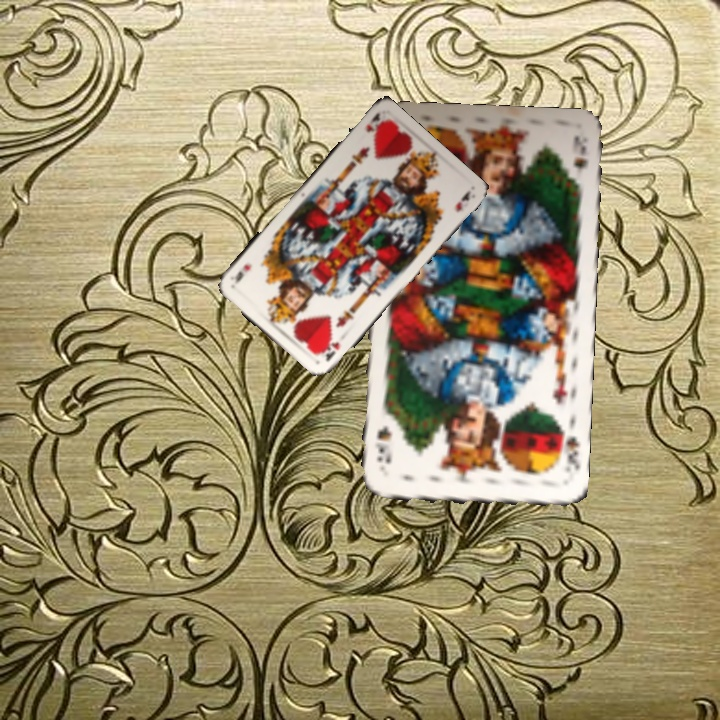HK: (317, 338, 342, 364), (362, 109, 386, 135)
SK: (554, 423, 582, 474)
